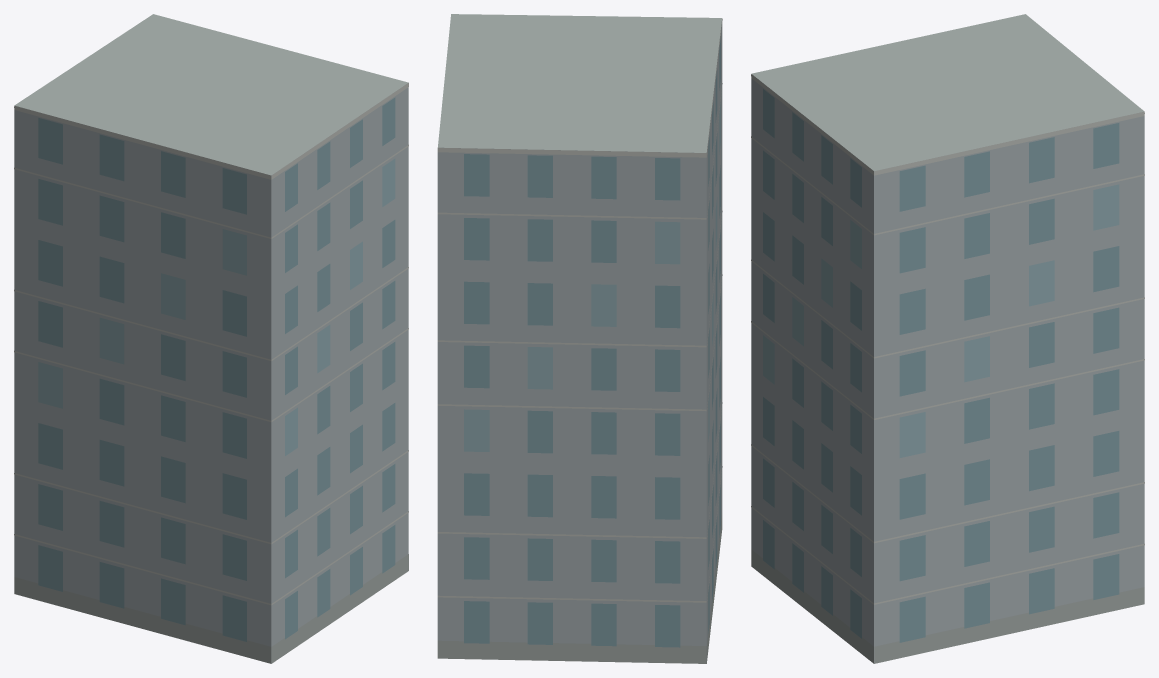
File: survey-upis-32882603.glb
3 renders of one model, left to right at view 1: azimuth 30°, elevation 25°; view 2: azimuth 150°, elevation 25°; view 3: azimuth 270°, elevation 25°, orthographic. The views are drawn at different scales.
Parts seen in each view (by area): view 1: survey-upis-32882603.tmp; view 2: survey-upis-32882603.tmp; view 3: survey-upis-32882603.tmp.
Part boxes in pixels (x1,y1,x2,y2): survey-upis-32882603.tmp: (14,14,408,663); survey-upis-32882603.tmp: (437,14,722,663); survey-upis-32882603.tmp: (751,14,1144,663).
Bounding box in the file's own units: 18.57 × 27.1 × 19.64.
